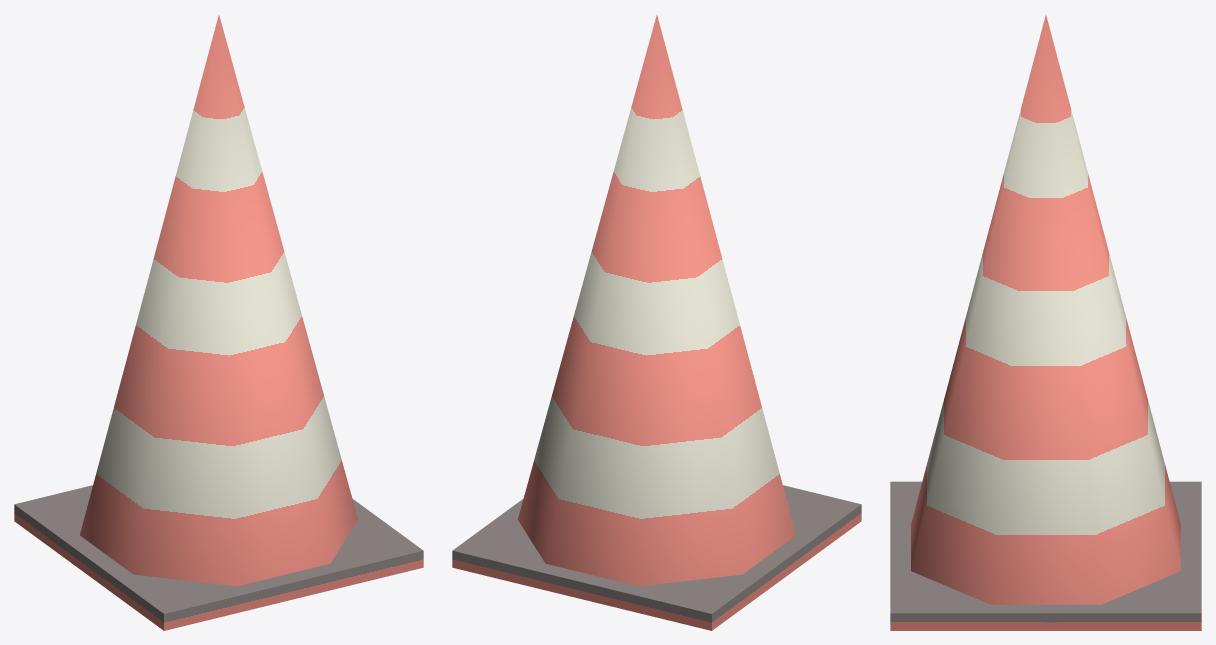
File: 011c_Mini_Pylon.glb
3 views of the same model, side by side, from view 1: azimuth 30°, elevation 25°; view 2: azimuth 150°, elevation 25°; view 3: azimuth 270°, elevation 25° (orthographic). The views are drawn at different scales.
Parts seen in each view (by area): view 1: part_0; view 2: part_0; view 3: part_0.
Boxes of the visible parts, left/top/right/bottom form: part_0: left=14, top=15, right=423, bottom=630; part_0: left=452, top=15, right=861, bottom=630; part_0: left=890, top=15, right=1201, bottom=630.
Size of the model in its own units: 0.0256 by 0.05 by 0.0256.
1 material, 1 textured.
